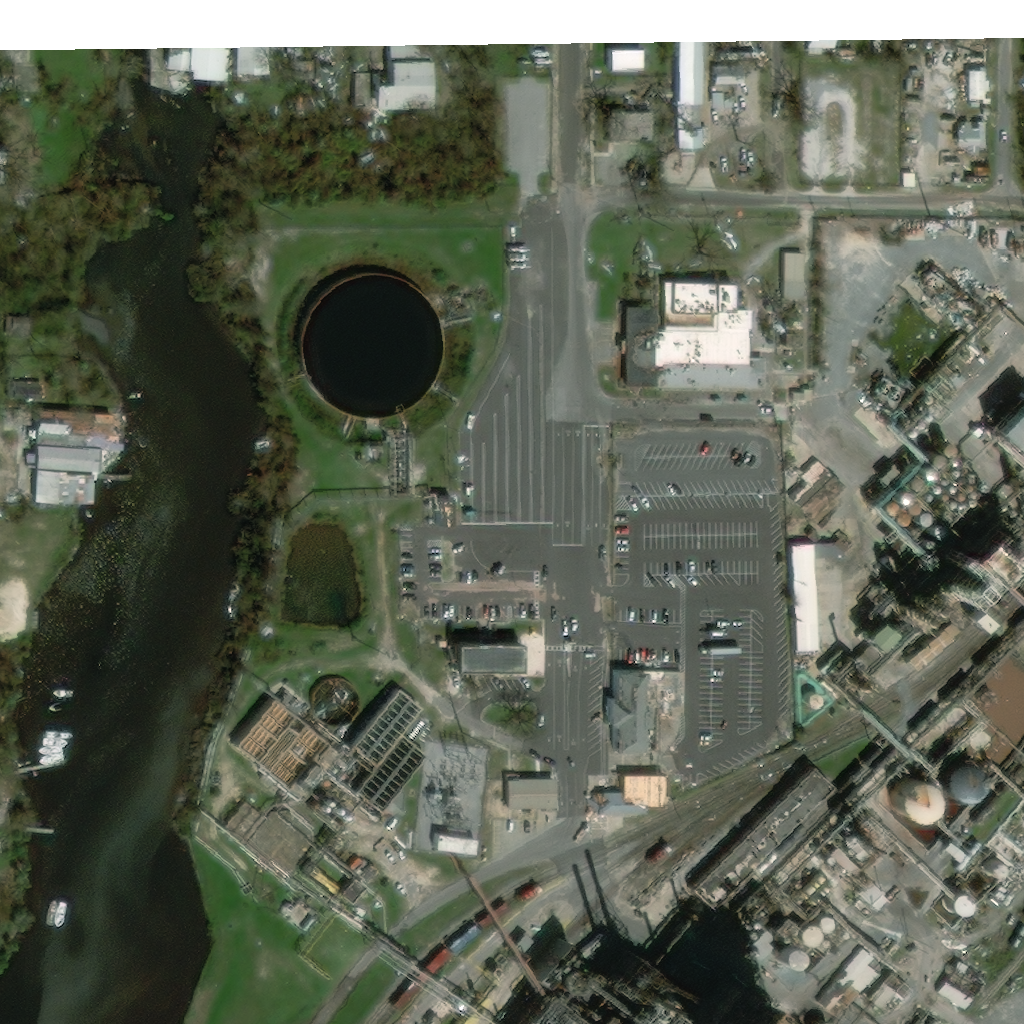destroyed: (910, 259, 981, 322), (310, 678, 367, 732), (0, 591, 28, 637), (315, 55, 336, 91), (741, 145, 757, 180), (719, 158, 739, 179), (936, 176, 955, 190)
major_damage: (690, 763, 832, 907), (603, 671, 684, 752), (587, 774, 669, 825), (31, 411, 123, 452), (934, 958, 986, 1013), (864, 971, 914, 1019), (860, 365, 906, 408)
minor_damage: (621, 275, 764, 389), (787, 533, 854, 652), (355, 41, 428, 118), (163, 44, 267, 97), (817, 952, 879, 1018), (790, 459, 845, 525), (28, 469, 98, 506), (937, 889, 971, 917), (798, 874, 823, 899), (275, 42, 307, 60), (12, 383, 45, 400), (779, 334, 806, 350), (813, 886, 833, 905), (780, 322, 804, 331), (965, 178, 987, 185)
no_damage: (939, 530, 999, 587), (974, 390, 1023, 456), (673, 37, 701, 150), (900, 622, 959, 674), (879, 774, 928, 821), (447, 643, 521, 673), (927, 757, 977, 801), (30, 442, 99, 473), (604, 99, 652, 142), (505, 781, 558, 809), (6, 46, 32, 92), (286, 900, 322, 933), (956, 121, 987, 158), (430, 833, 481, 855), (783, 253, 805, 303), (854, 878, 886, 909), (851, 618, 882, 649), (958, 70, 988, 102), (604, 49, 644, 71), (308, 869, 341, 895), (823, 845, 851, 875), (764, 942, 796, 968), (276, 692, 305, 720), (806, 36, 840, 58), (939, 601, 969, 625), (930, 836, 956, 862), (339, 879, 366, 902), (789, 925, 816, 947), (436, 497, 456, 526), (980, 859, 1006, 881), (292, 763, 315, 787), (711, 69, 743, 86), (358, 864, 381, 886), (810, 914, 834, 934), (758, 915, 779, 936), (710, 92, 734, 109), (791, 389, 814, 403), (512, 935, 529, 952), (783, 448, 800, 462), (837, 50, 856, 60), (428, 1014, 446, 1023), (854, 899, 865, 910), (860, 649, 872, 659)
unclassified: (640, 980, 771, 1023), (0, 506, 4, 525)
